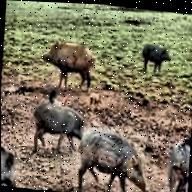boar: (69, 118, 155, 192), (32, 40, 102, 96), (30, 99, 88, 160), (135, 39, 174, 78)
